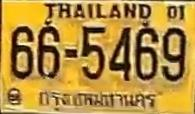4: (108, 26, 130, 80)
5: (80, 25, 106, 79)
6: (10, 25, 33, 78), (134, 26, 157, 79), (37, 25, 59, 78)
9: (161, 27, 185, 80)
BKK: (35, 87, 157, 109)
